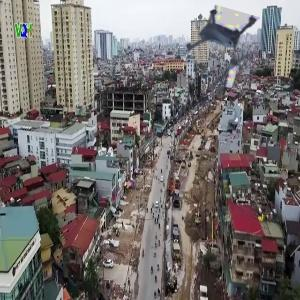drone: (171, 6, 254, 89)
